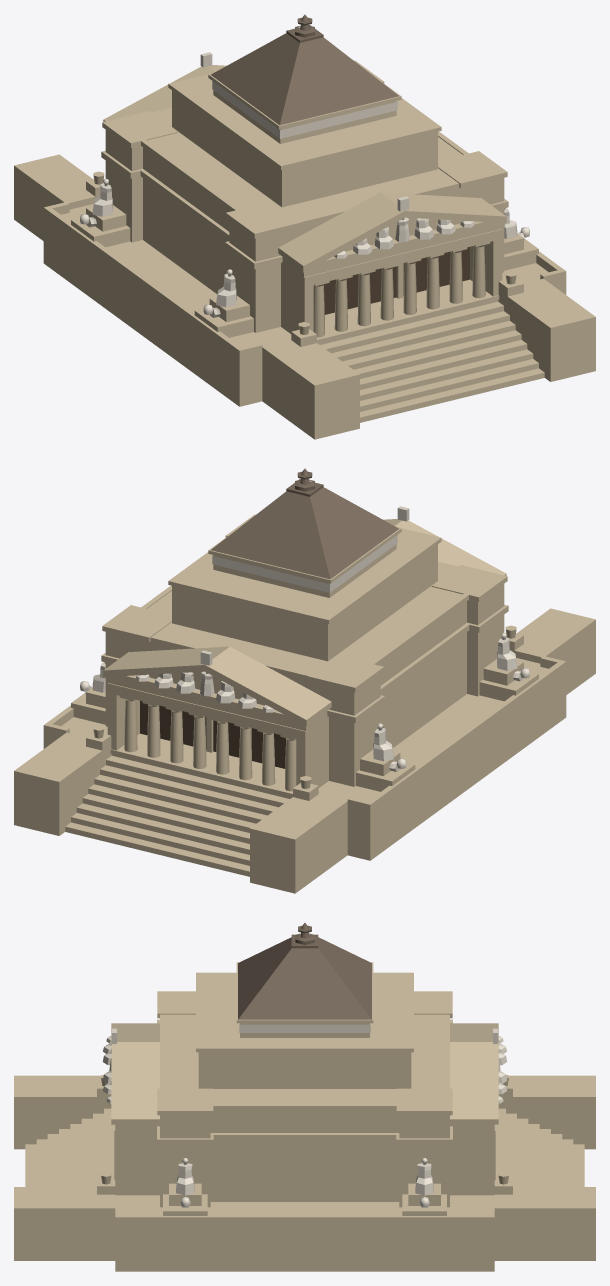
File: melbourne-shrine-of-remembrance.glb
The picture shows the model from 3 angles, top to bottom: view 1: azimuth 30°, elevation 25°; view 2: azimuth 150°, elevation 25°; view 3: azimuth 270°, elevation 25°; orthographic projection. The views are drawn at different scales.
Visible parts, largest first — view 1: Shrine of Remembrance; view 2: Shrine of Remembrance; view 3: Shrine of Remembrance.
Boxes of the visible parts, x1,y1,x2,y2 form: Shrine of Remembrance: (14,14,595,439); Shrine of Remembrance: (14,468,595,893); Shrine of Remembrance: (14,923,595,1271).
Bounding box in the file's own units: 36 × 29.6 × 57.4.
